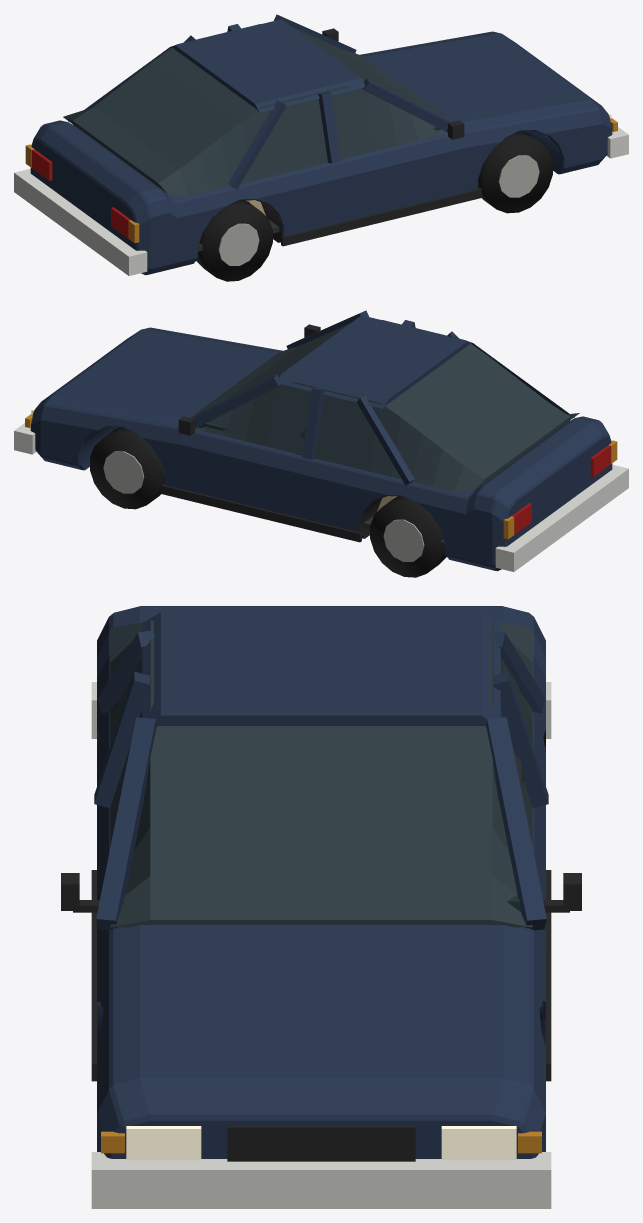
The model's file is ohrid.glb.
The picture shows the model from 3 angles, top to bottom: view 1: azimuth 30°, elevation 25°; view 2: azimuth 150°, elevation 25°; view 3: azimuth 270°, elevation 25°; orthographic projection. The views are drawn at different scales.
Parts seen in each view (by area): view 1: Body, Greenhouse, Roof, Bumper_R, Tire_FR, Tire_RR, Sill_R, Hub_FR, Hub_RR, Pillar_A_R, Pillar_Cedge_R, Pillar_B_R (+4 smaller); view 2: Body, Greenhouse, Roof, Bumper_R, Tire_FL, Tire_RL, Sill_L, Hub_FL, Hub_RL, Pillar_A_L, Pillar_Cedge_L, Pillar_B_L (+4 smaller); view 3: Body, Greenhouse, Roof, Bumper_F, Grille, Pillar_A_L, Pillar_A_R, Lamp_Head_L, Lamp_Head_R, Pillar_B_R, Pillar_B_L, Pillar_Cedge_R (+3 smaller).
Part boxes in pixels (box(x1,y1,x2,y2)): Body: box(30, 31, 612, 275); Greenhouse: box(63, 23, 450, 196); Roof: box(171, 19, 364, 112); Bumper_R: box(14, 168, 147, 275); Tire_FR: box(478, 131, 552, 213); Tire_RR: box(196, 200, 272, 281); Sill_R: box(281, 188, 481, 246); Hub_FR: box(498, 155, 539, 197); Hub_RR: box(218, 223, 259, 265); Pillar_A_R: box(362, 78, 452, 132); Pillar_Cedge_R: box(228, 100, 286, 189); Pillar_B_R: box(318, 91, 340, 163); Body: box(30, 327, 612, 571); Greenhouse: box(192, 319, 579, 492); Roof: box(278, 315, 471, 408); Bumper_R: box(495, 464, 628, 571); Tire_FL: box(90, 427, 164, 509); Tire_RL: box(370, 496, 446, 577); Sill_L: box(161, 484, 361, 542); Hub_FL: box(103, 451, 144, 493); Hub_RL: box(383, 519, 424, 561); Pillar_A_L: box(190, 374, 280, 428); Pillar_Cedge_L: box(356, 396, 414, 485); Pillar_B_L: box(302, 387, 324, 459); Body: box(97, 606, 545, 1158); Greenhouse: box(110, 620, 532, 927); Roof: box(142, 612, 500, 725); Bumper_F: box(91, 1152, 551, 1208); Grille: box(227, 1125, 415, 1161); Pillar_A_L: box(485, 717, 546, 930); Pillar_A_R: box(96, 717, 157, 930); Lamp_Head_L: box(441, 1126, 516, 1160); Lamp_Head_R: box(126, 1126, 201, 1160); Pillar_B_R: box(94, 671, 149, 808); Pillar_B_L: box(493, 671, 548, 808); Pillar_Cedge_R: box(98, 630, 154, 713).
Size of the model in its own units: 4.32 by 1.32 by 1.95.
